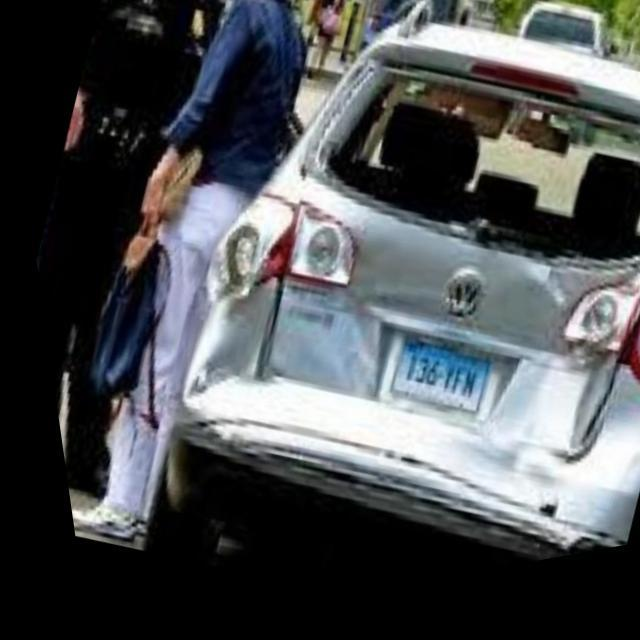dent: (162, 178, 640, 570)
glass shatter: (301, 71, 640, 274)
